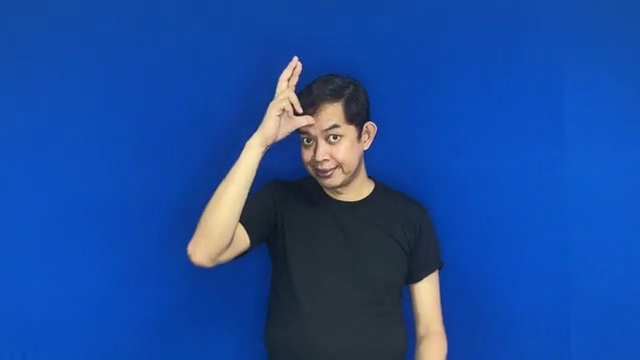chicken: (246, 46, 321, 161)
